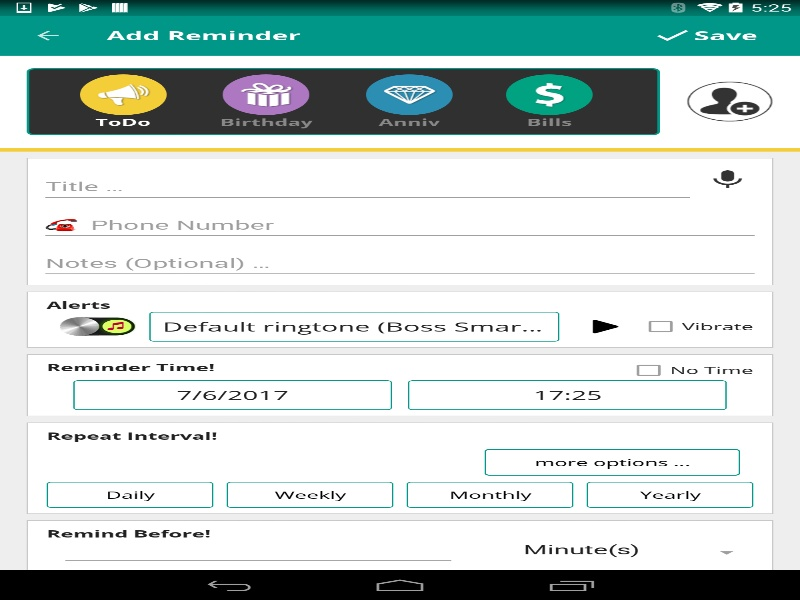Button: (10, 15, 85, 55)
Input: (40, 248, 760, 279), (40, 210, 760, 240), (40, 171, 695, 202), (60, 540, 456, 565)
